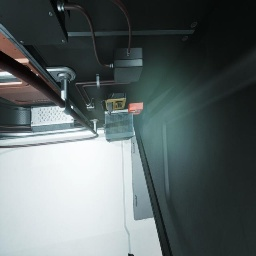EmergencyPhone ,: (101, 92, 126, 116)
FireAlarm ,: (127, 102, 143, 115)
